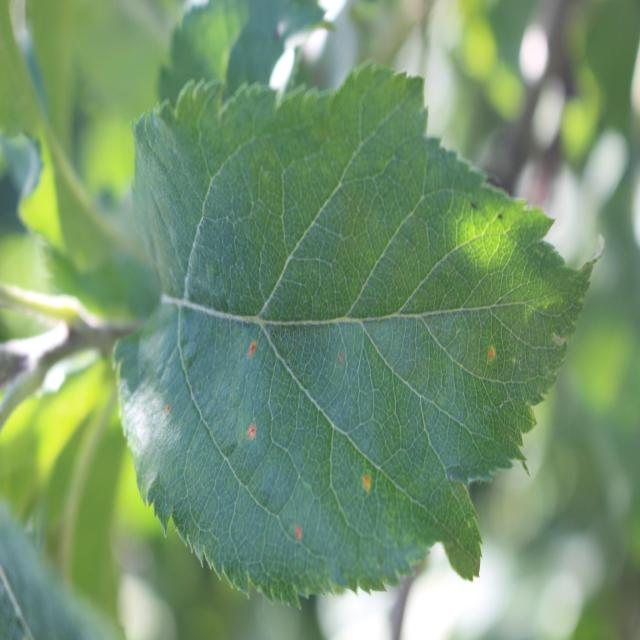Rust: (476, 309, 502, 378), (354, 453, 373, 518), (240, 325, 270, 359), (243, 413, 264, 451), (290, 521, 317, 546)
